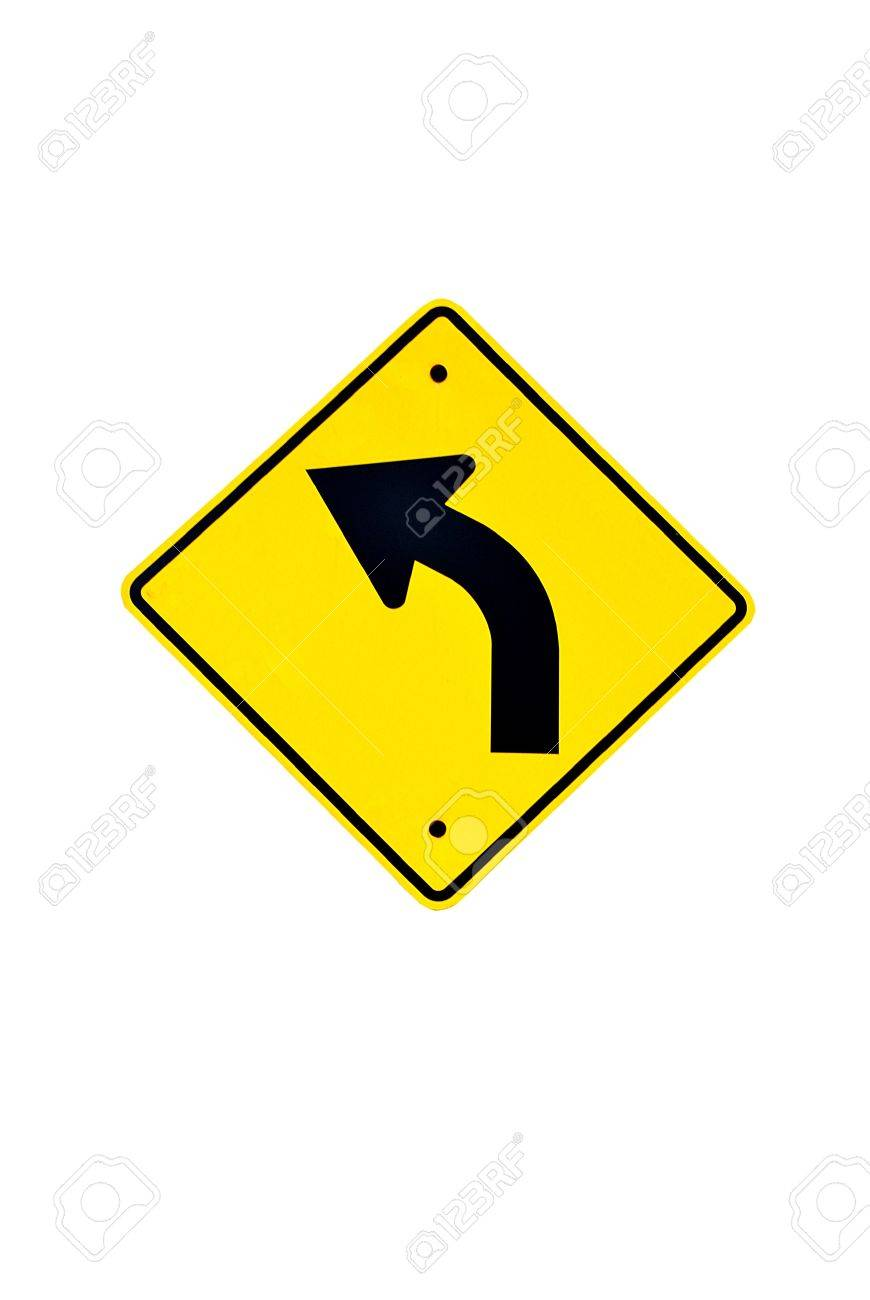left: (111, 286, 757, 911)
